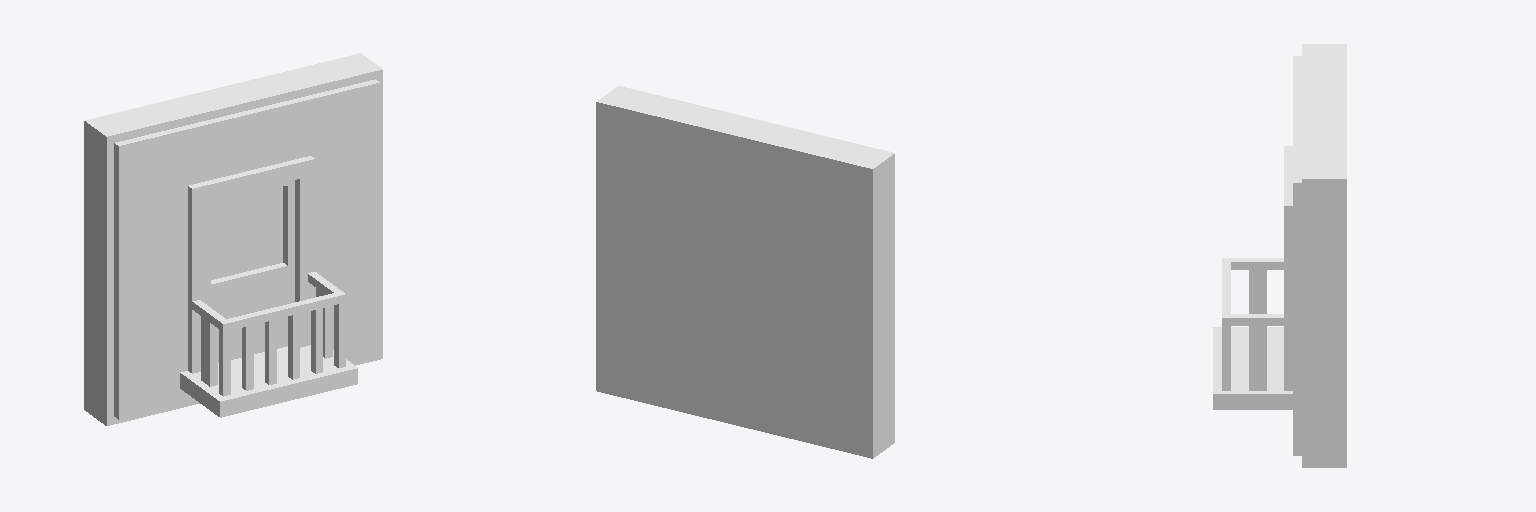
File: fenetre-13.obj
3 renders of one model, left to right at view 1: azimuth 30°, elevation 25°; view 2: azimuth 150°, elevation 25°; view 3: azimuth 270°, elevation 25°, orthographic.
Parts seen in each view (by area): view 1: object 1; view 2: object 1; view 3: object 1.
Boxes of the visible parts, x1,y1,x2,y2 form: object 1: [84, 53, 382, 425]; object 1: [596, 86, 894, 458]; object 1: [1213, 44, 1346, 467].
Size of the model in its own units: 3.6 by 3.6 by 1.5.